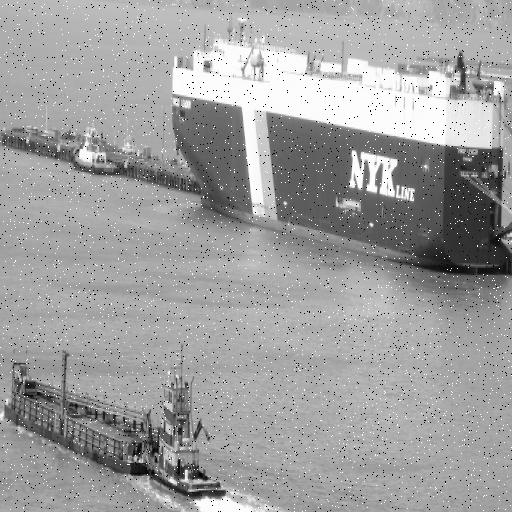tugboat: (144, 367, 229, 506), (71, 118, 124, 189)
